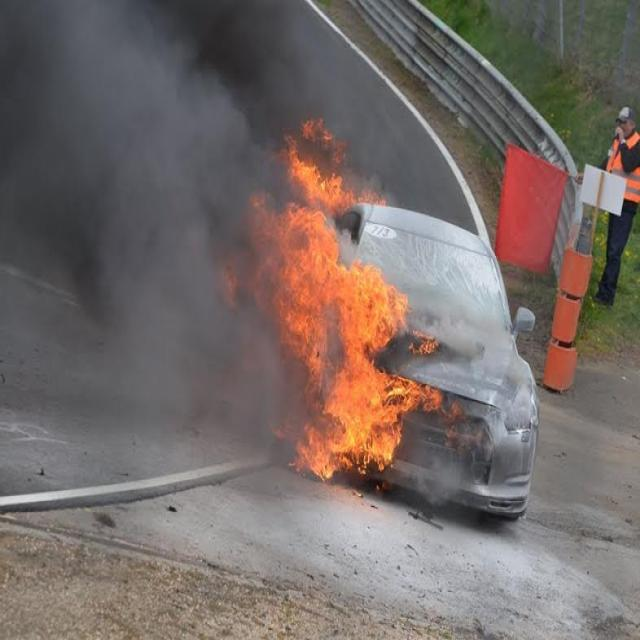Fire: (306, 261, 404, 484)
Smoke: (23, 22, 248, 414), (289, 150, 345, 256)
